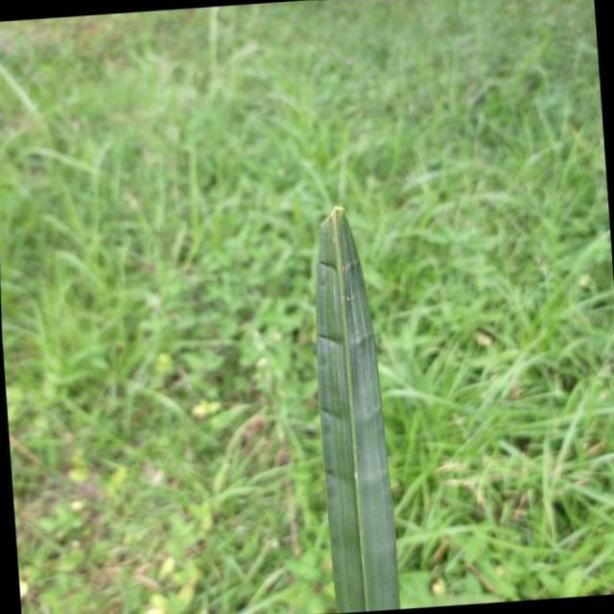Boron: (313, 199, 402, 614)
